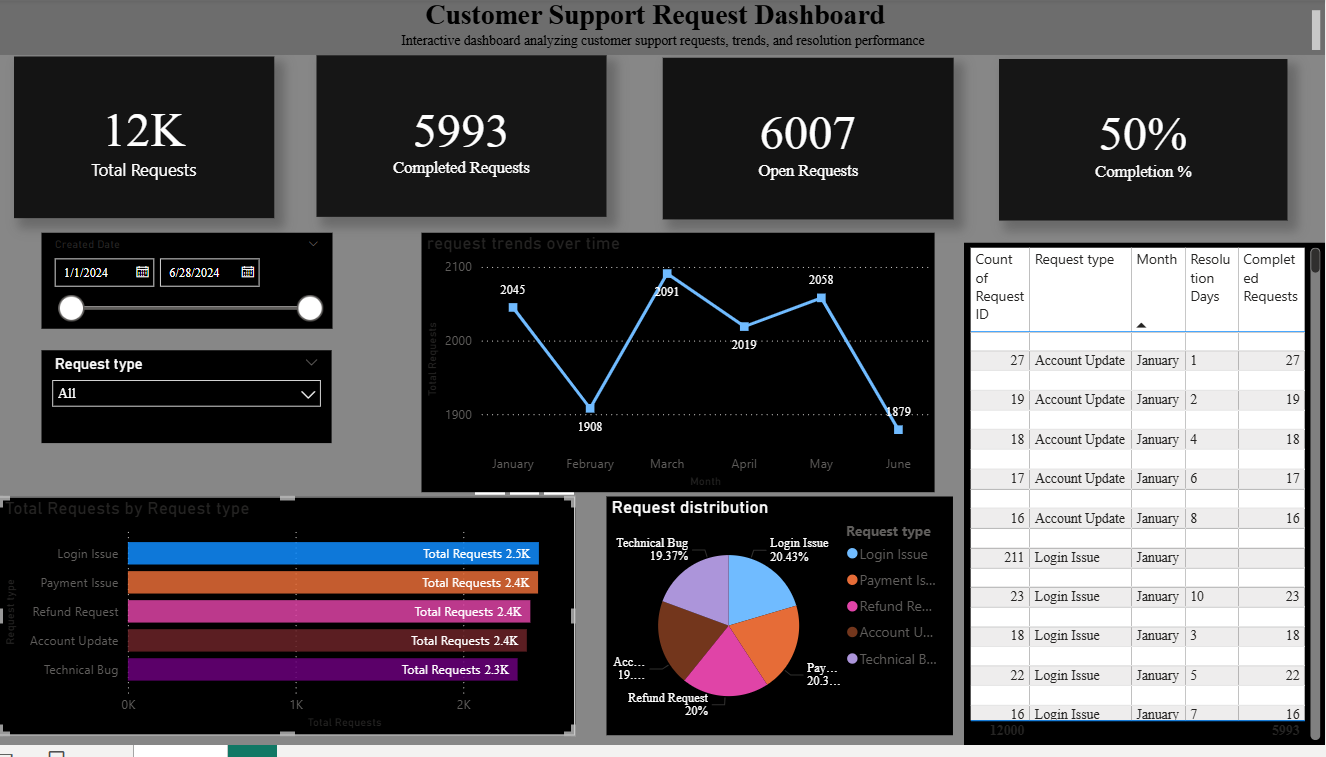

This screenshot's page, from the dashboard's own definition file:
{"tool":"powerbi","page":{"name":"Page 1","canvas":[1280,720],"ordinal":0},"visuals":[{"type":"card","fields":{"Values":["Support_Data.Total Requests"]},"box":[14.5,55.5,250.9,155.6],"z":0},{"type":"card","fields":{"Values":["Support_Data.Completed Requests"]},"box":[306.4,54.3,279.9,155.6],"z":1000},{"type":"card","fields":{"Values":["Support_Data.Open Requests"]},"box":[640.6,56.7,281.1,155.6],"z":2000},{"type":"card","fields":{"Values":["Support_Data.Completion %"]},"box":[965.2,57.9,278.7,155.6],"z":3000},{"type":"clusteredBarChart","fields":{"Category":["Support_Data.Request type"],"Y":["Support_Data.Total Requests"]},"box":[0,480.6,556.4,229.9],"z":4000},{"type":"lineChart","title":"request trends over time ","fields":{"Category":["Support_Data.Created Date.Variation.Date Hierarchy.Month"],"Y":["Support_Data.Total Requests"]},"box":[407.2,225,495.2,250.7],"z":5000},{"type":"pieChart","title":"Request distribution","fields":{"Category":["Support_Data.Request type"],"Y":["CountNonNull(Support_Data.Request ID)"]},"box":[586.3,480.2,334.2,230.4],"z":6000},{"type":"tableEx","fields":{"Values":["CountNonNull(Support_Data.Request ID)","Support_Data.Request type","Support_Data.Created Date.Variation.Date Hierarchy.Month","Support_Data.Resolution Days","Support_Data.Completed Requests"]},"box":[931.4,235.3,348.7,485],"z":7000},{"type":"slicer","fields":{"Values":["Support_Data.Request type"]},"box":[41,339,279.9,89.3],"z":8000},{"type":"slicer","fields":{"Values":["Support_Data.Created Date"]},"box":[41,225.6,279.9,91.7],"z":9000},{"type":"textbox","box":[0,1.2,1280,53.1],"z":10000}]}

Visuals, with their boxes in screenshot pixels (x1, y1, x2, y2), scaled from the page's 1280x720 canvas onto the 1326x757 screenshot:
card - Support_Data.Total Requests: (left=15, top=58, right=275, bottom=222)
card - Support_Data.Completed Requests: (left=317, top=57, right=607, bottom=221)
card - Support_Data.Open Requests: (left=664, top=60, right=955, bottom=223)
card - Support_Data.Completion %: (left=1000, top=61, right=1289, bottom=224)
clusteredBarChart - Support_Data.Request type x Support_Data.Total Requests: (left=0, top=505, right=576, bottom=747)
"request trends over time " lineChart: (left=422, top=237, right=935, bottom=500)
"Request distribution" pieChart: (left=607, top=505, right=954, bottom=747)
tableEx - CountNonNull(Support_Data.Request ID) x Support_Data.Request type: (left=965, top=247, right=1325, bottom=756)
slicer - Support_Data.Request type: (left=42, top=356, right=332, bottom=450)
slicer - Support_Data.Created Date: (left=42, top=237, right=332, bottom=334)
textbox: (left=0, top=1, right=1325, bottom=57)
